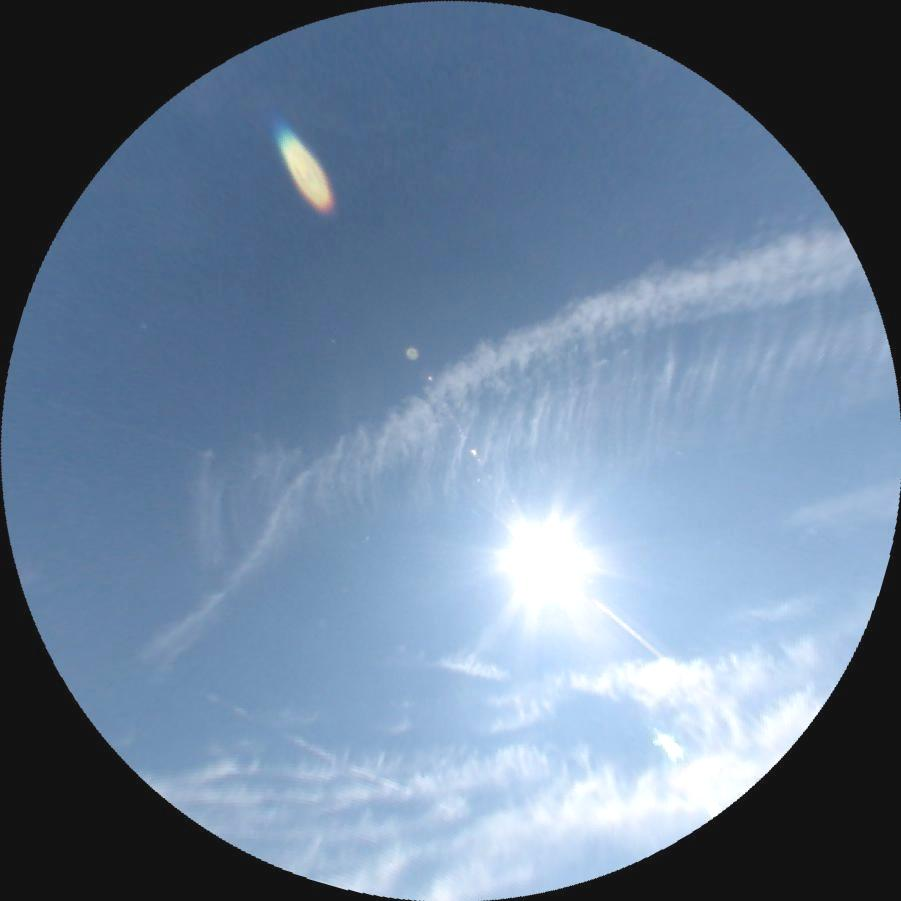contrail veryold: (81, 157, 866, 682), (172, 279, 895, 573)
contrail young: (201, 692, 455, 822)
parasite: (592, 598, 665, 659)
sun: (505, 527, 578, 599)
